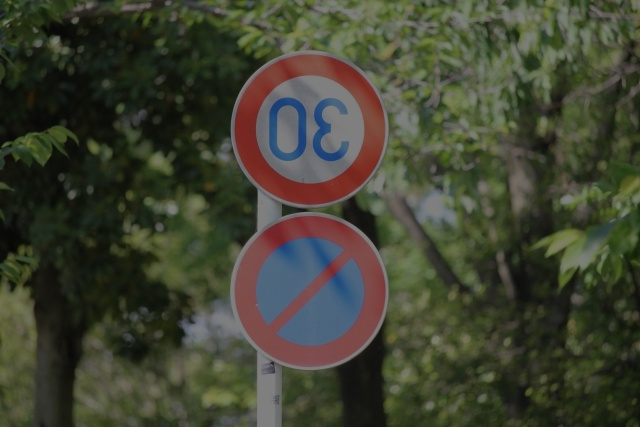Prohibition_sign: (214, 205, 401, 384)
